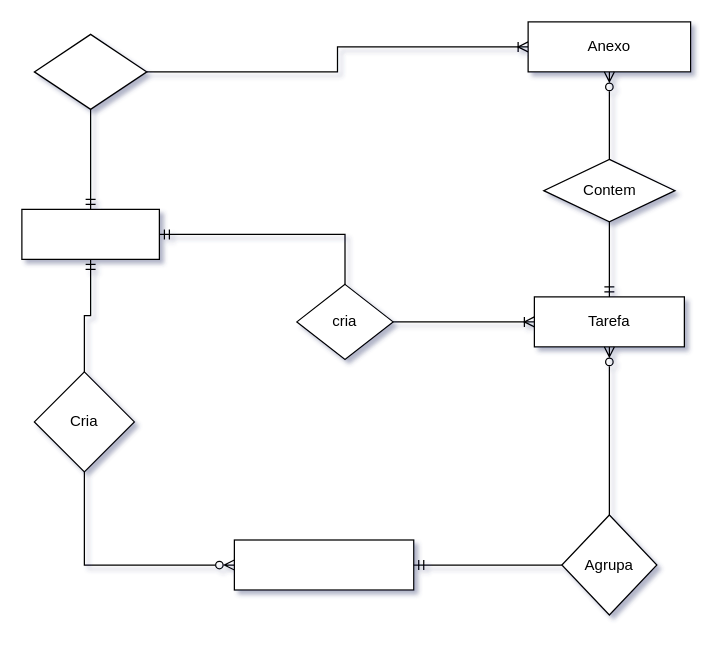
Some shapes in this 720 by 655 pixel diagram are drawn without their labels. Here are the shapes that lost their labels. From the top down, the centre of each, then its label:
[90,71]: envia
[90,233]: Utilizador
[323,564]: Quadro
